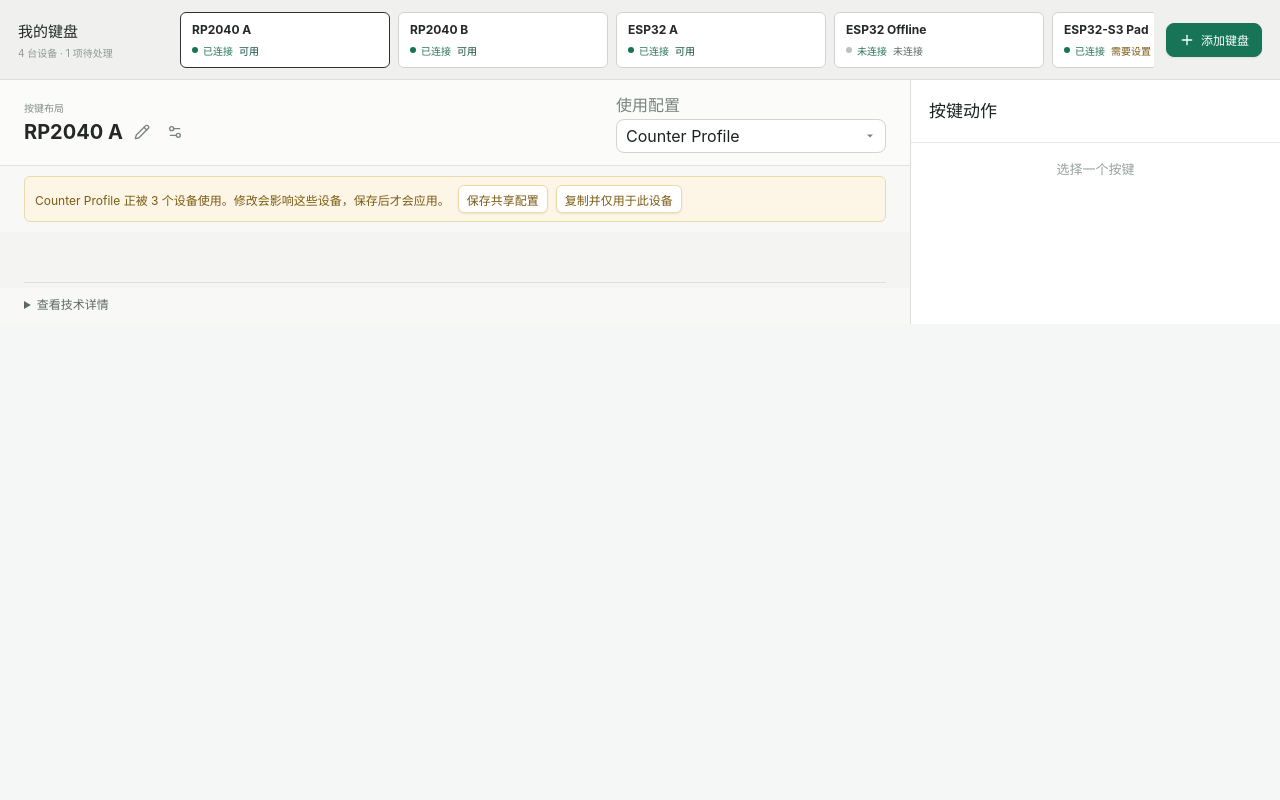
Test: duplicates a legacy device configuration from its selector and retains errors for retry
Select "复制当前配置" in the dropdown labelled "使用配置": (751, 136) [616,119,886,153]
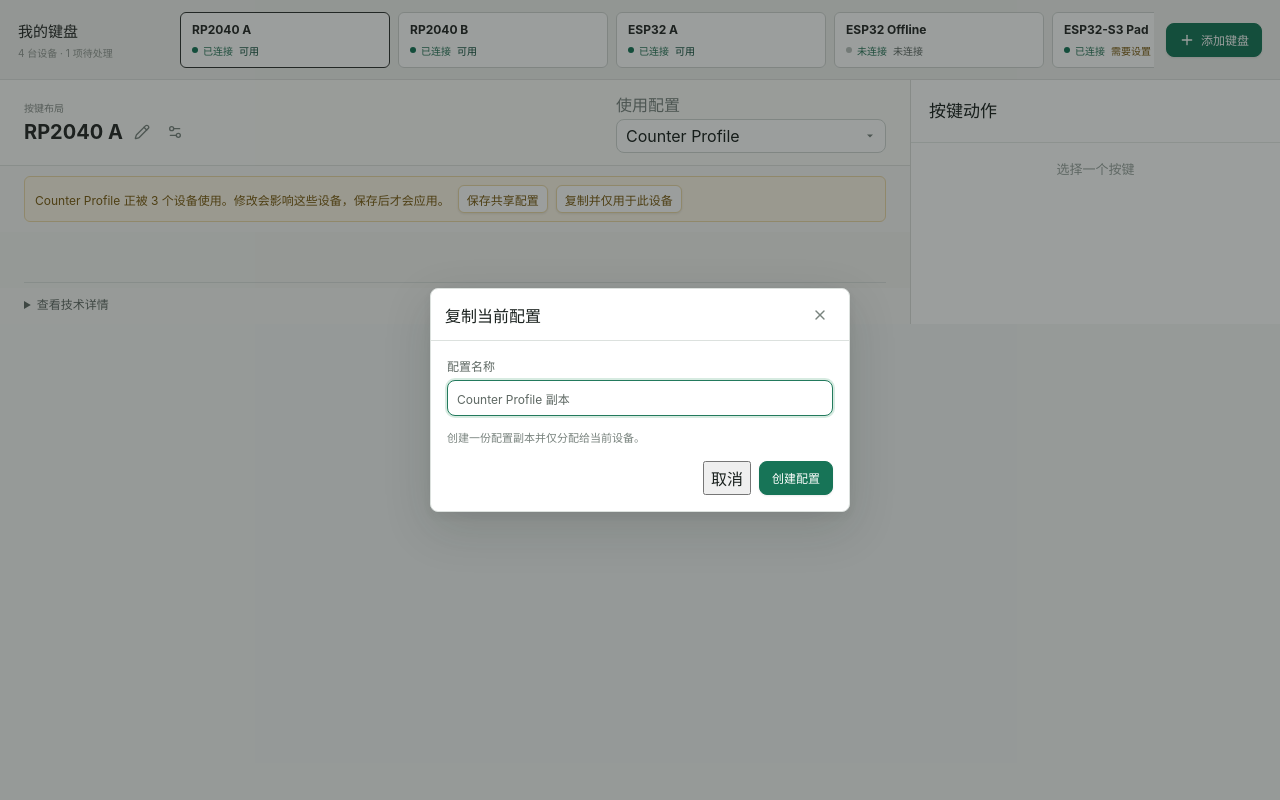
Check: the field labelled "配置名称" holds "Counter Profile 副本"
Clear the field labelled "配置名称": (640, 398) [447,380,833,416]
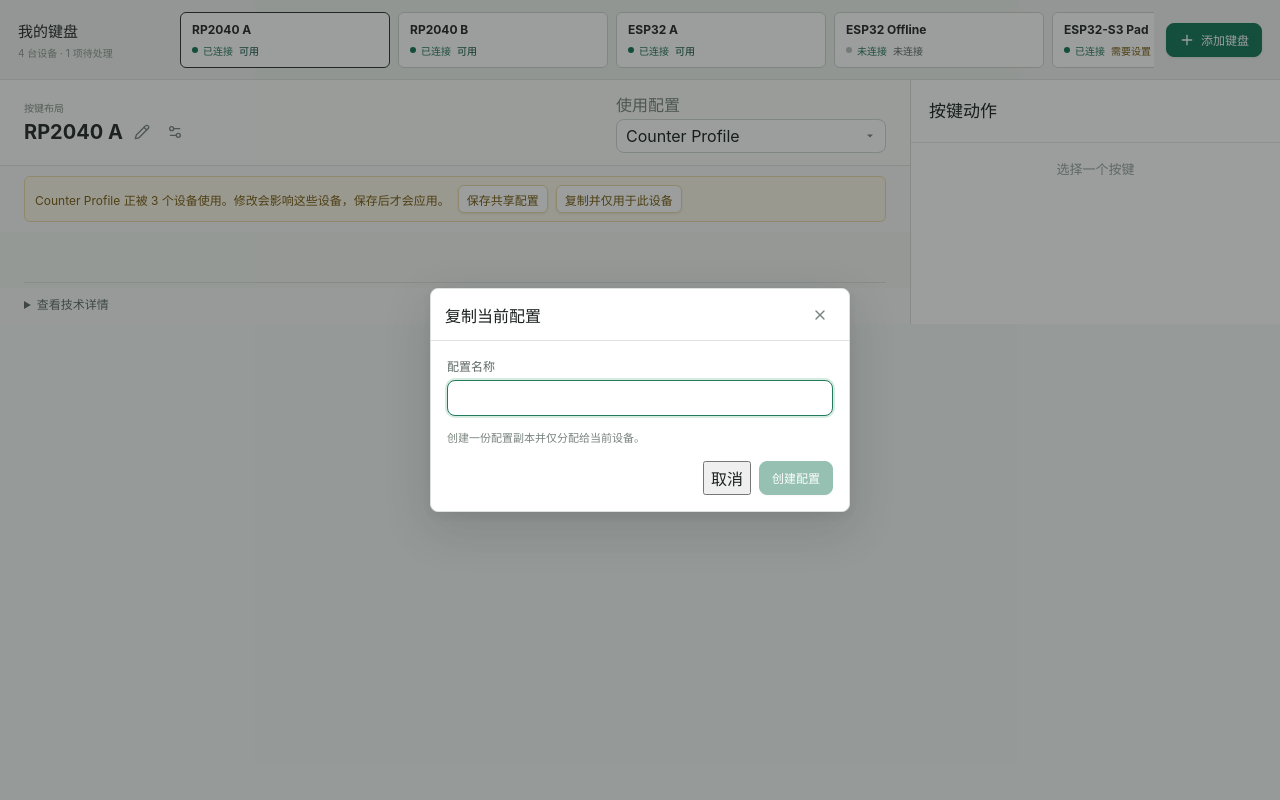
Check: the button "创建配置" is disabled, box [759,461,833,495]
In the field labelled "配置名称": (640, 398) [447,380,833,416], type "My copy"
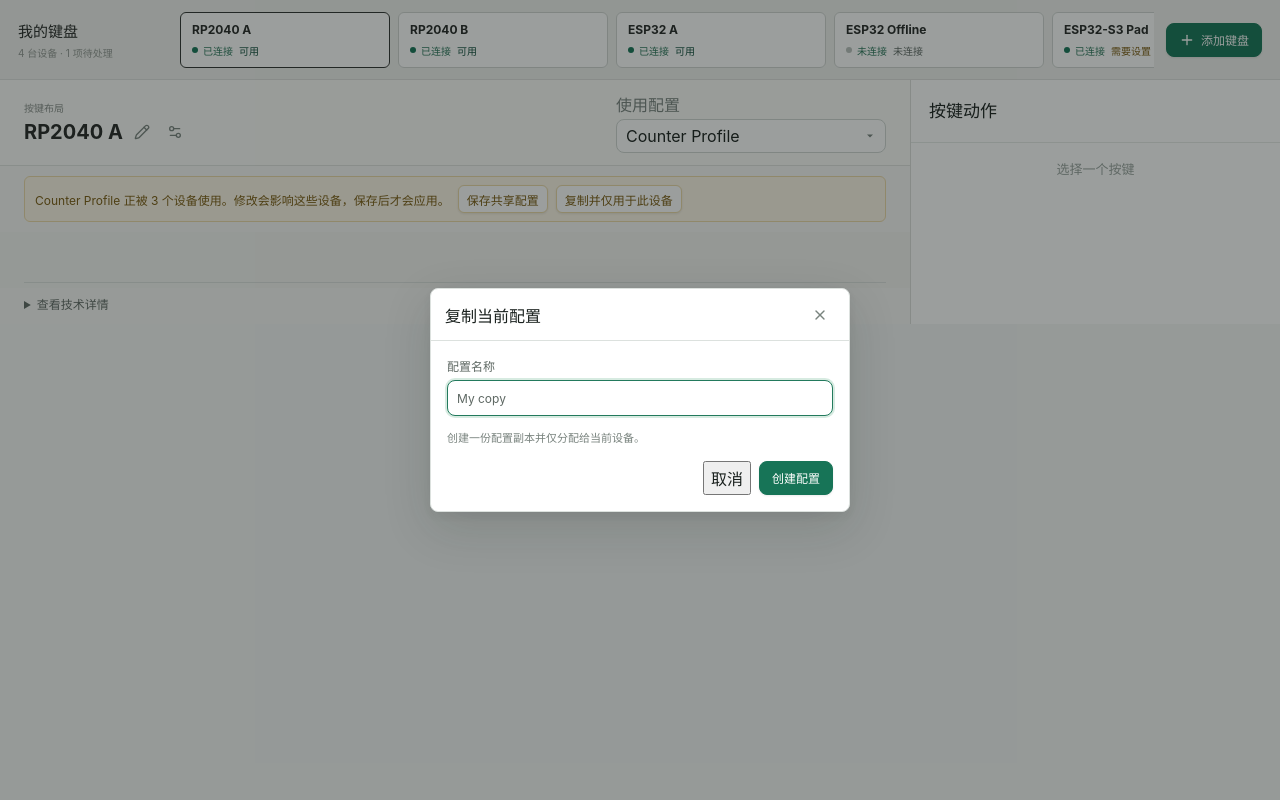
Click the button "创建配置": click(796, 478) [759,461,833,495]
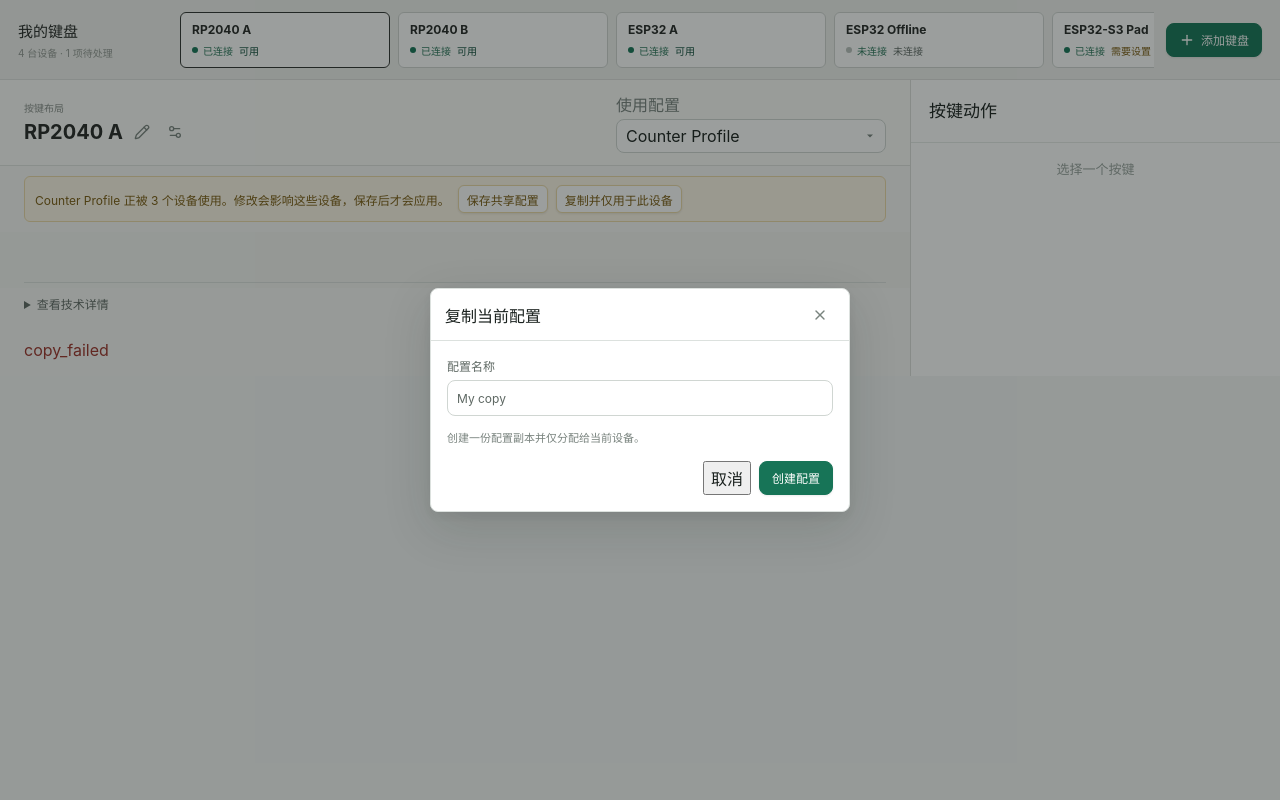
Check: the dialog "复制当前配置" is shown, box [430,288,850,512]
Check: the text "copy_failed" is shown, box [24,340,109,360]
Click the button "创建配置": click(796, 478) [759,461,833,495]
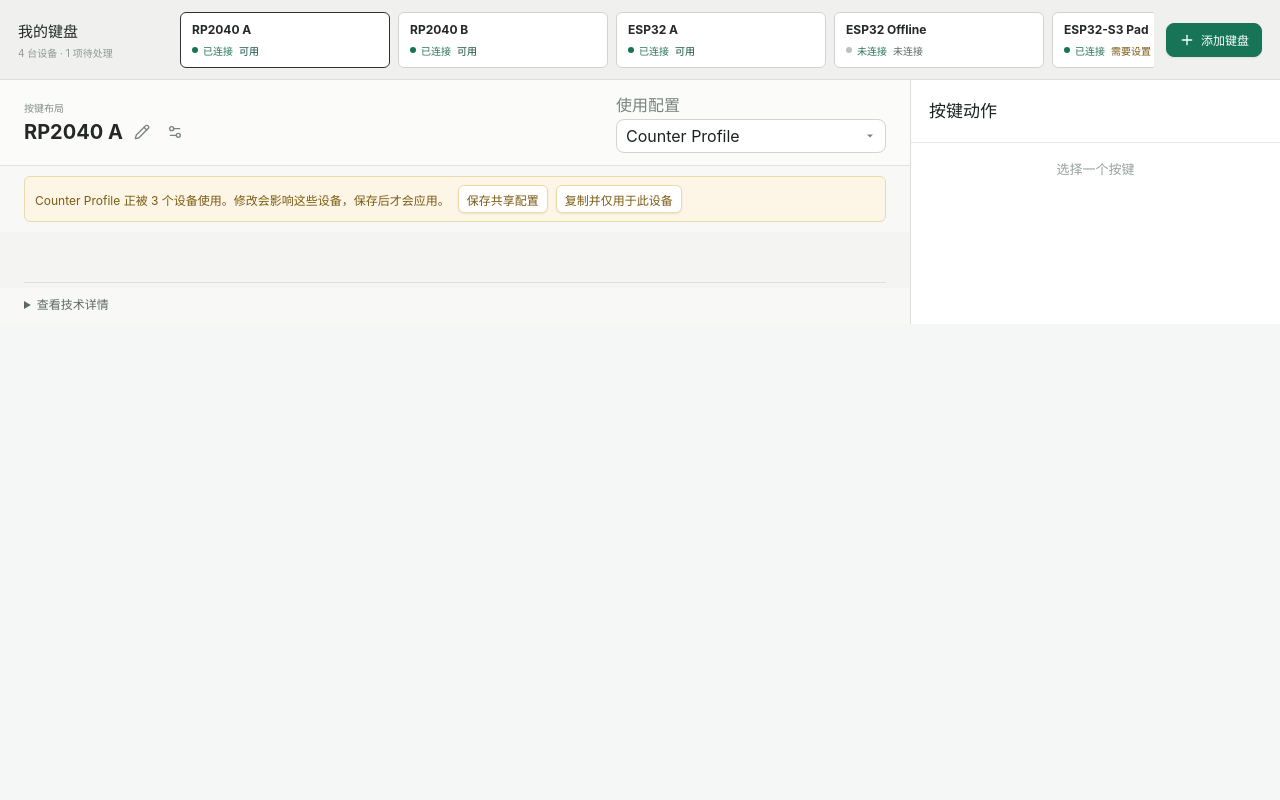
Check: the heading "复制当前配置" is gone
